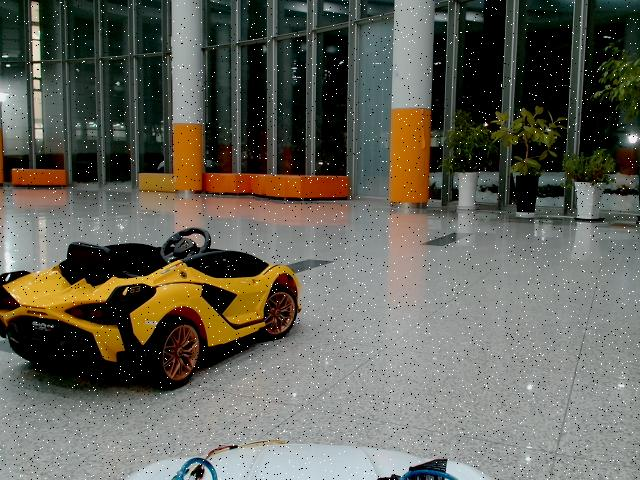car: (1, 227, 303, 391)
